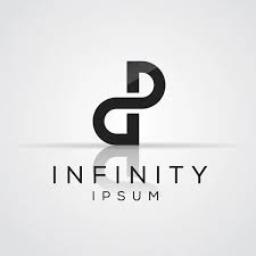f: (90, 162, 108, 186)
i: (48, 160, 58, 186)
n: (64, 163, 84, 187)
p: (124, 52, 172, 146), (100, 189, 110, 205)
t: (168, 164, 186, 186)
y: (190, 163, 210, 189)
